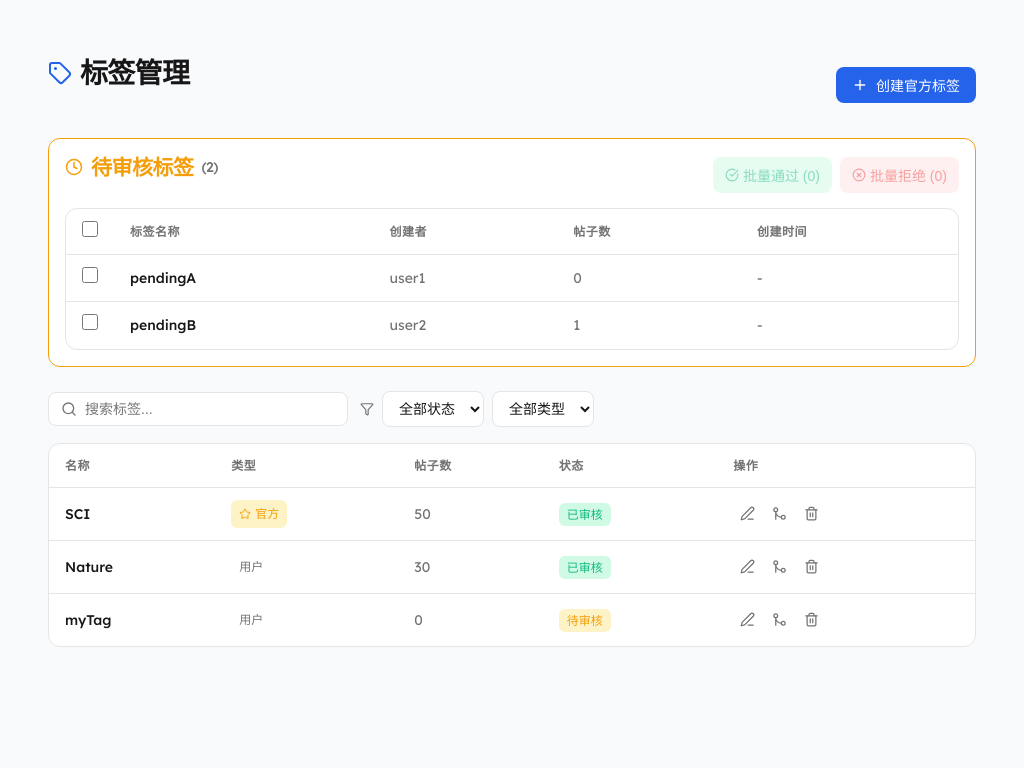
Scenario: AdminTagsPanel › Actions › should cancel edit on Escape key
Expected: the text "SCI" is shown, [65,505,90,523]
Click the button titled "编辑" in the row of "SCI" at (747, 514), box [733,500,761,528]
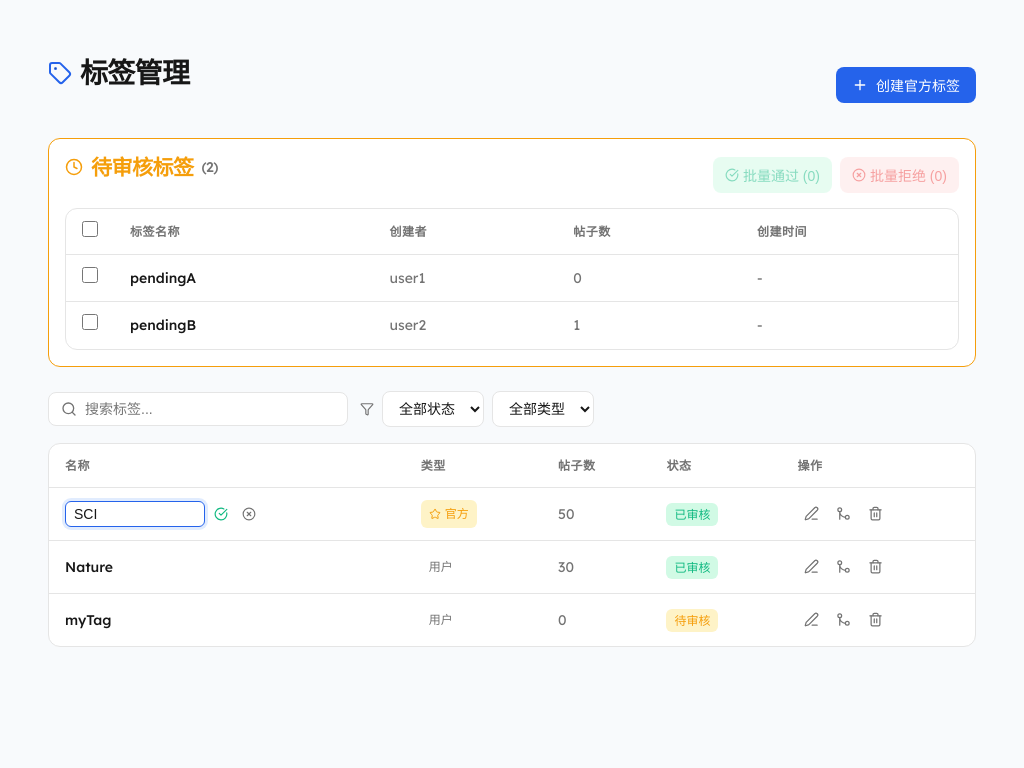
Result: the field showing "SCI" is shown at [65,501,205,527]
Press Escape
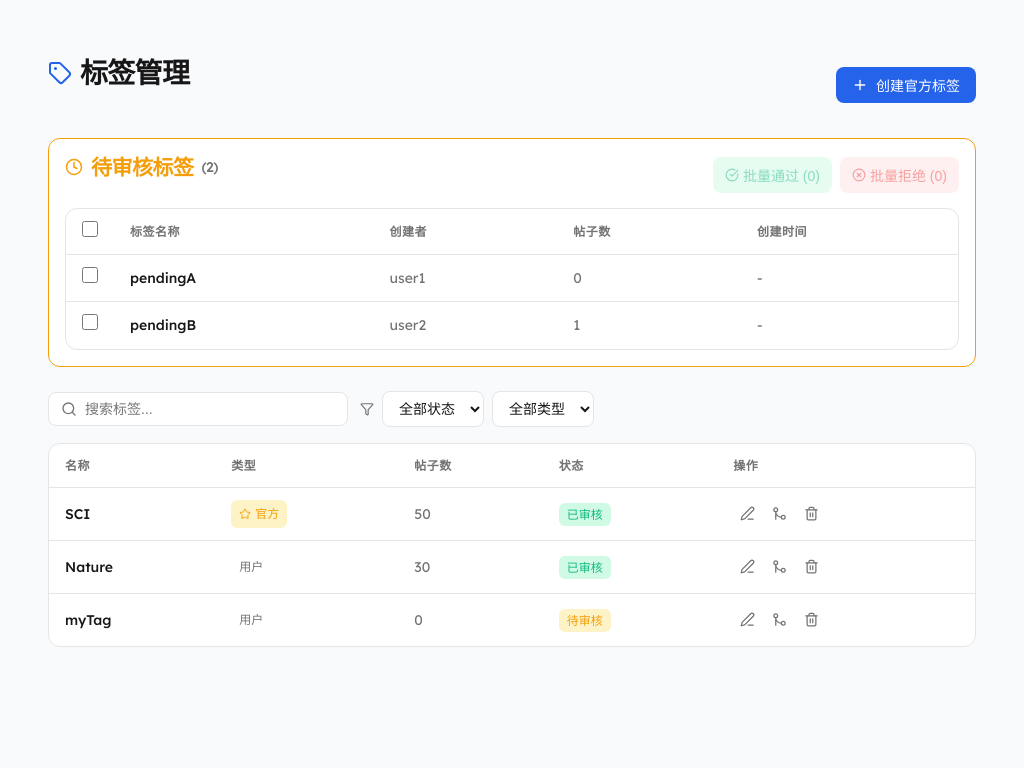
Result: the text "SCI" is shown at [65,505,90,523]
